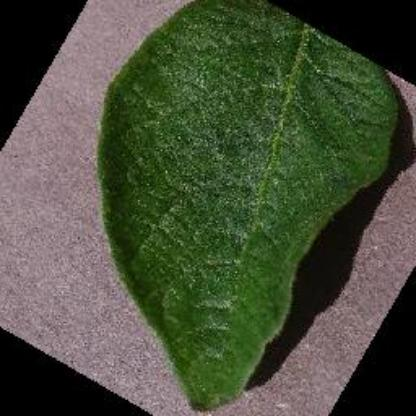Healthy-plant: (94, 2, 404, 410)
